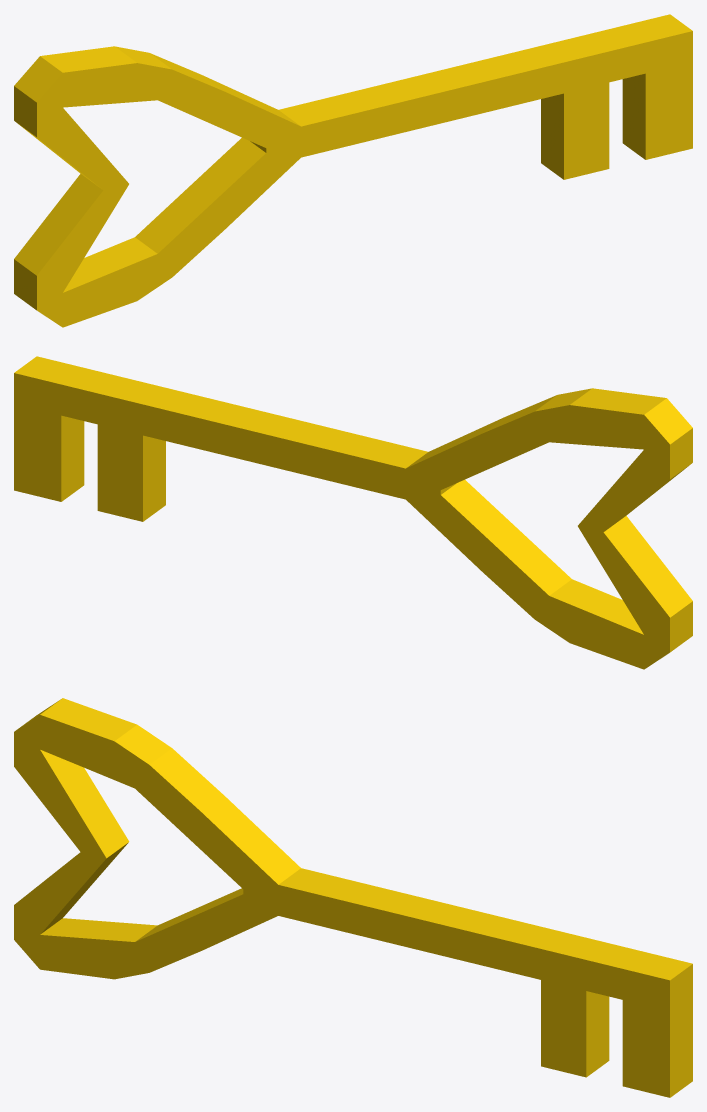
The model's file is HeartKey.fbx.
3 renders of one model, top to bottom at view 1: azimuth 30°, elevation 25°; view 2: azimuth 150°, elevation 25°; view 3: azimuth 330°, elevation 25°, orthographic.
Parts seen in each view (by area): view 1: Cube; view 2: Cube; view 3: Cube.
Part boxes in pixels (<box>): Cube: <box>14,14,692,327</box>; Cube: <box>14,356,692,669</box>; Cube: <box>14,698,692,1097</box>.
Size of the model in its own units: 246 by 91.46 by 14.85.
